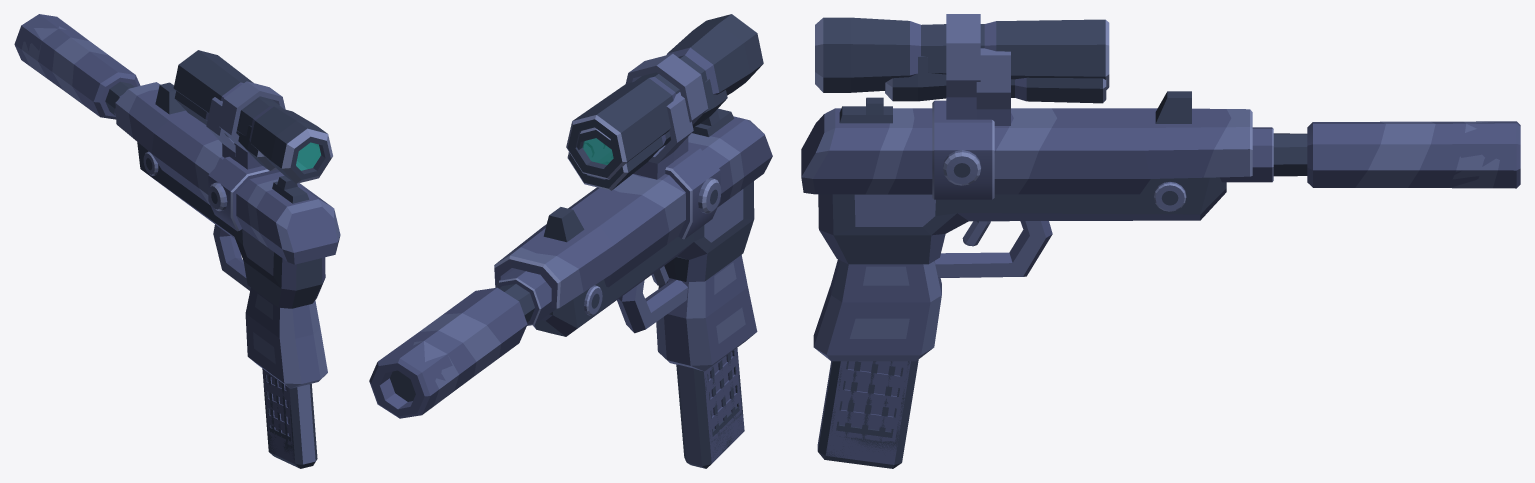
Rendered from Pistol.fbx.
The picture shows the model from 3 angles, left to right: view 1: azimuth 30°, elevation 25°; view 2: azimuth 150°, elevation 25°; view 3: azimuth 270°, elevation 25°; orthographic projection. The views are drawn at different scales.
Parts seen in each view (by area): view 1: Pistol base, PistolAim2, PistolAim3, Psitolmuffler3, Psitolmuffler2, PistolPatron3, PistolPatron2, Psitolmuffler1, PistolAim1; view 2: Pistol base, PistolAim2, Psitolmuffler3, Psitolmuffler1, PistolAim1, Psitolmuffler2, PistolAim3, PistolPatron1, PistolPatron2, PistolPatron3; view 3: Pistol base, PistolAim2, Psitolmuffler3, PistolAim3, PistolAim1, Psitolmuffler1, PistolPatron2, Psitolmuffler2, PistolPatron3, PistolPatron1.
Part boxes in pixels (x1,y1,x2,y2): Pistol base: (114,82,340,388); PistolAim2: (173,50,332,229); PistolAim3: (174,67,332,231); Psitolmuffler3: (15,14,135,108); Psitolmuffler2: (14,26,140,119); PistolPatron3: (263,369,317,468); PistolPatron2: (262,368,316,468); Psitolmuffler1: (15,16,114,116); PistolAim1: (174,91,276,170); Pistol base: (494,108,772,371); PistolAim2: (566,14,763,239); Psitolmuffler3: (369,284,534,417); Psitolmuffler1: (371,284,534,418); PistolAim1: (567,79,727,190); Psitolmuffler2: (380,288,534,414); PistolAim3: (576,27,762,234); PistolPatron1: (676,350,743,468); PistolPatron2: (704,348,744,463); PistolPatron3: (704,348,744,459); Pistol base: (801,91,1273,361); PistolAim2: (815,14,1109,199); Psitolmuffler3: (1273,121,1520,187); PistolAim3: (815,18,1109,199); PistolAim1: (885,48,1106,125); Psitolmuffler1: (1273,122,1520,188); PistolPatron2: (819,361,910,468); Psitolmuffler2: (1274,121,1516,188); PistolPatron3: (817,361,909,468); PistolPatron1: (827,360,918,468).
Bounding box in the file's own units: 0.6099 × 2.59 × 3.74.
